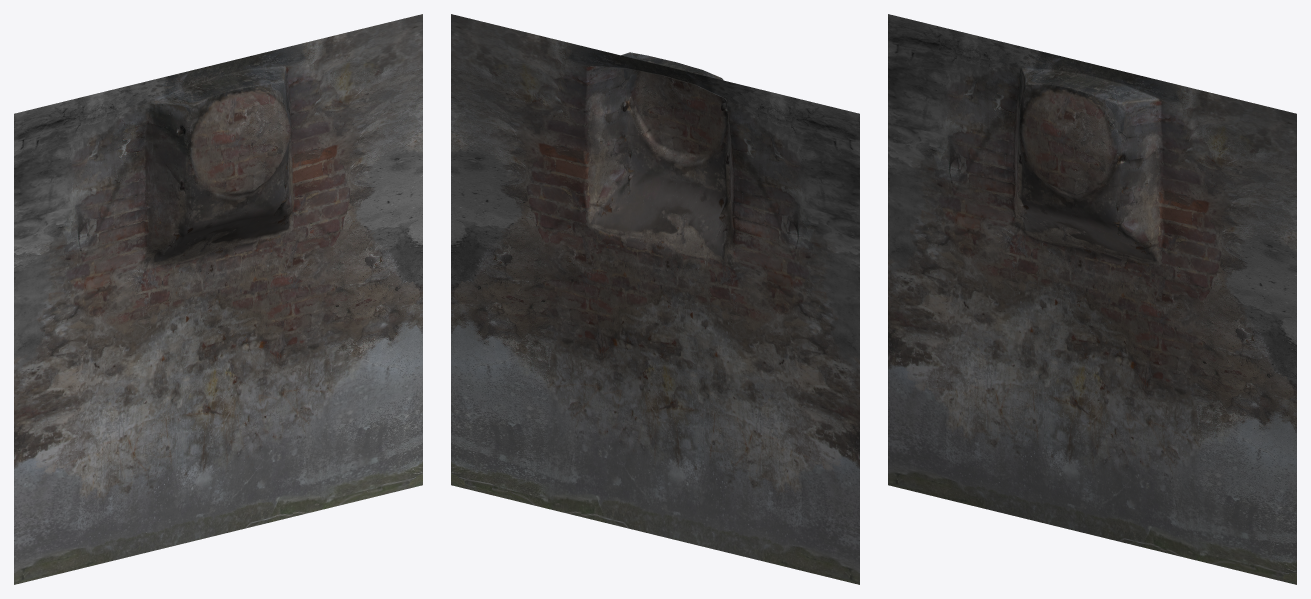
The model's file is SM_CryptWall_01_02.fbx.
3 renders of one model, left to right at view 1: azimuth 30°, elevation 25°; view 2: azimuth 150°, elevation 25°; view 3: azimuth 330°, elevation 25°, orthographic.
Visible parts, largest first — view 1: sm_CryptWall_01_02_LOD0; view 2: sm_CryptWall_01_02_LOD0; view 3: sm_CryptWall_01_02_LOD0.
Part boxes in pixels (box(x1,y1,x2,y2)): sm_CryptWall_01_02_LOD0: box(14, 14, 422, 584); sm_CryptWall_01_02_LOD0: box(451, 14, 859, 584); sm_CryptWall_01_02_LOD0: box(888, 14, 1296, 584).
Size of the model in its own units: 29.87 by 250 by 275.
